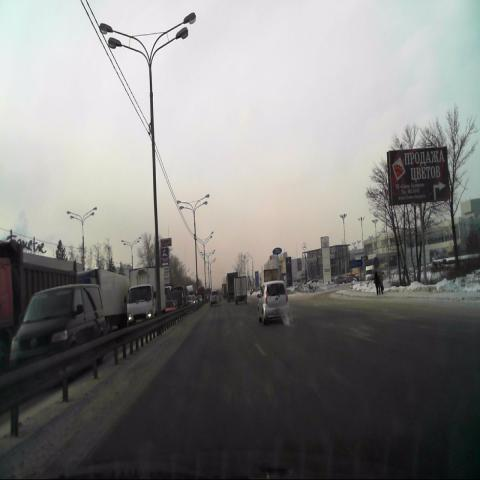3_27: (373, 256, 379, 268)
